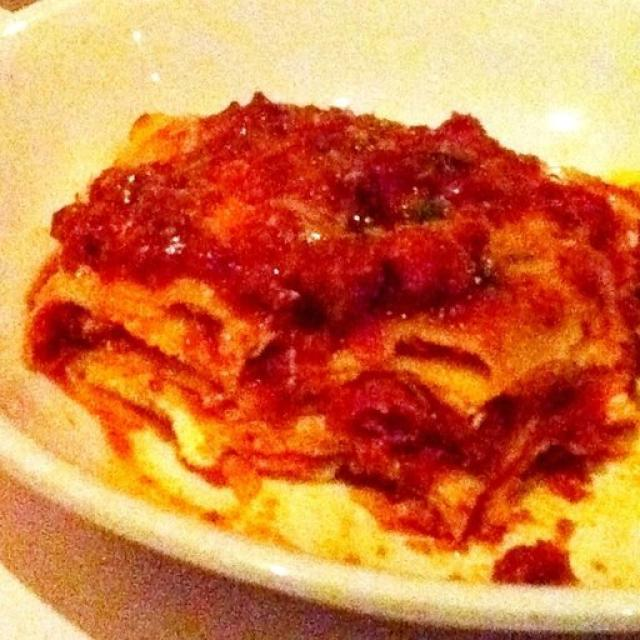Lasagna: (40, 88, 636, 597)
